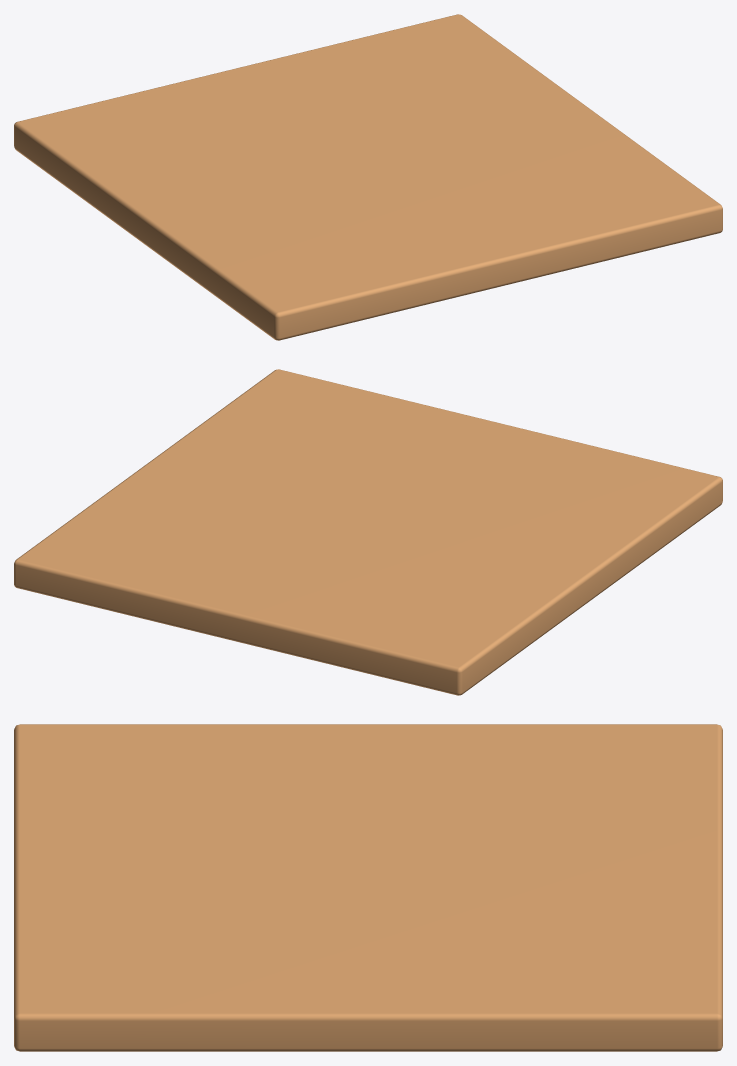
File: SM_floor.glb
The picture shows the model from 3 angles, top to bottom: view 1: azimuth 30°, elevation 25°; view 2: azimuth 150°, elevation 25°; view 3: azimuth 270°, elevation 25°; orthographic projection. The views are drawn at different scales.
Parts seen in each view (by area): view 1: SM_floor; view 2: SM_floor; view 3: SM_floor.
Boxes of the visible parts, x1,y1,x2,y2 form: SM_floor: (14, 14, 722, 340); SM_floor: (14, 369, 722, 695); SM_floor: (14, 724, 722, 1051).
Bounding box in the file's own units: 4.79 × 0.2897 × 4.89.
Materials: 1 (1 with a texture image).
